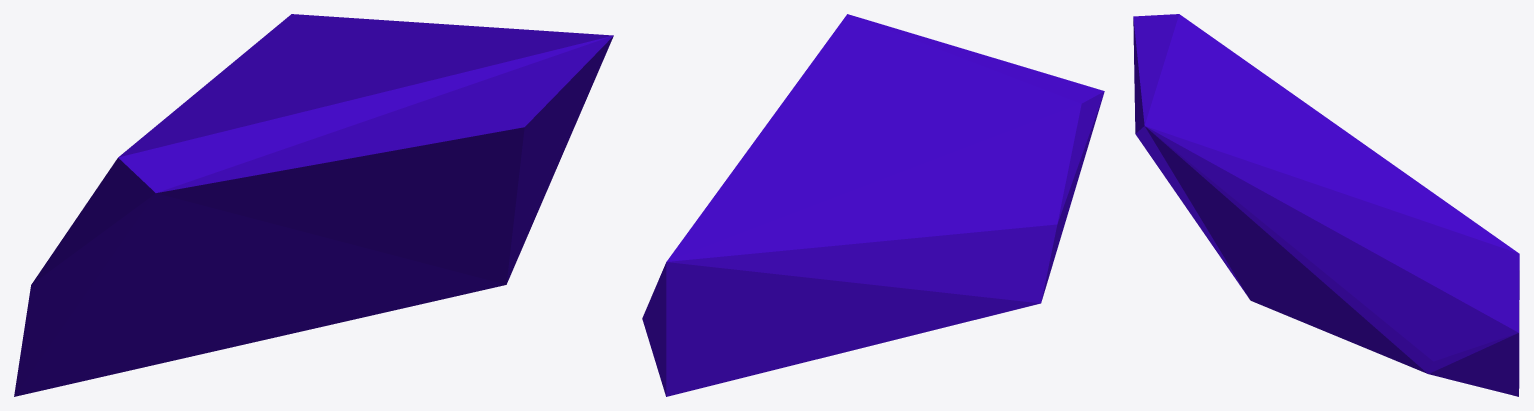
Rendered from arm-L1-mirror_convex_piece_001.obj.
The picture shows the model from 3 angles, left to right: view 1: azimuth 30°, elevation 25°; view 2: azimuth 150°, elevation 25°; view 3: azimuth 270°, elevation 25°; orthographic projection. The views are drawn at different scales.
Bounding box in the file's own units: 0.0217 × 0.0182 × 0.0237.
